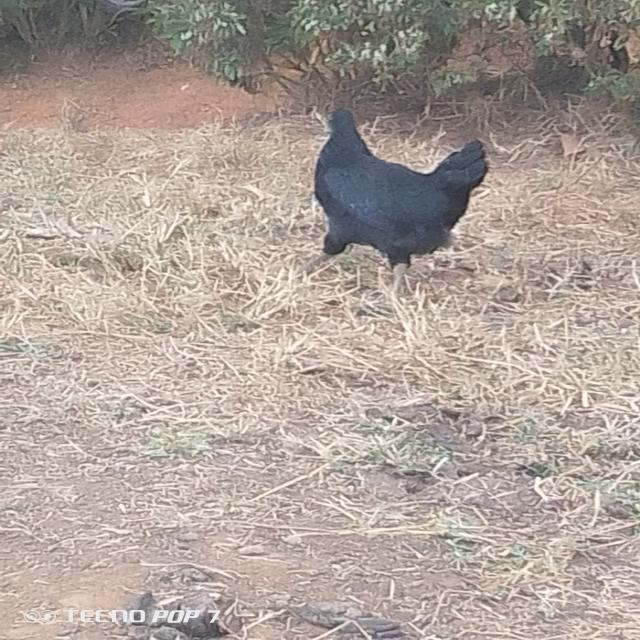hen: (194, 73, 536, 319)
